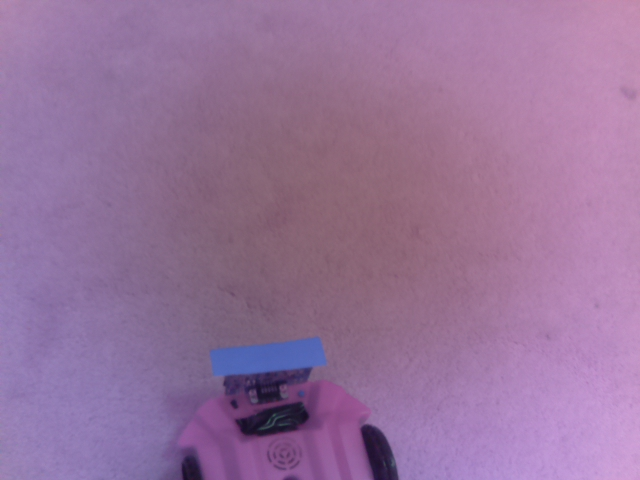board: (201, 335, 327, 397)
chassis: (176, 384, 408, 480)
